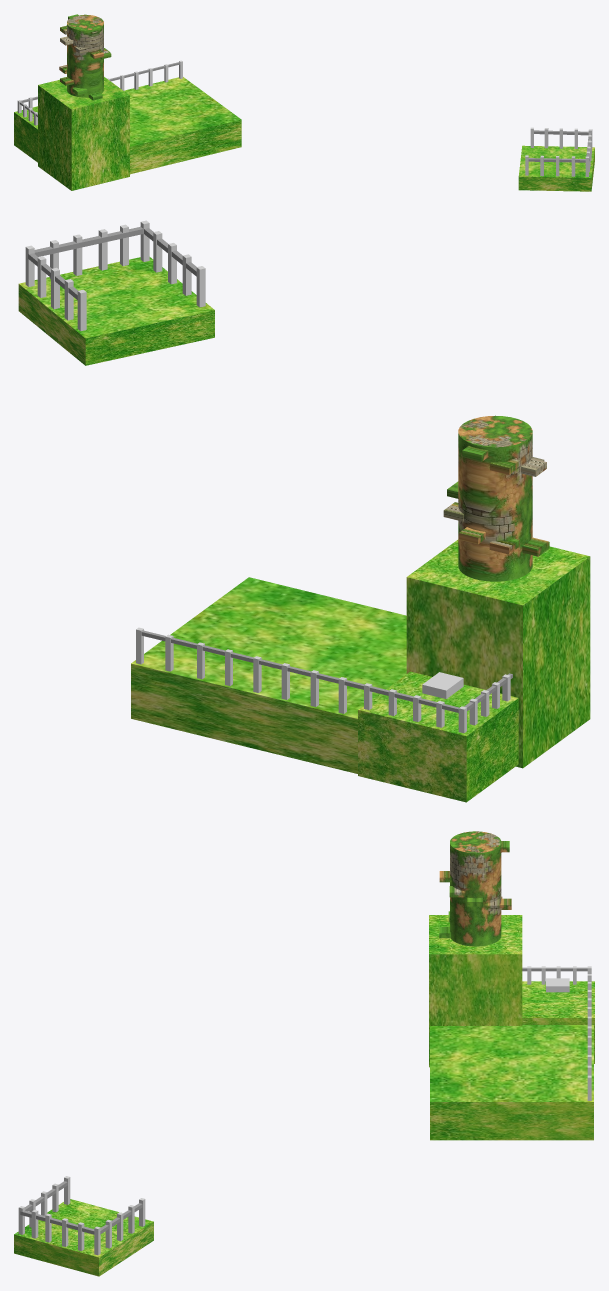
Rendered from Stage_Main.fbx.
3 renders of one model, top to bottom at view 1: azimuth 30°, elevation 25°; view 2: azimuth 150°, elevation 25°; view 3: azimuth 270°, elevation 25°, orthographic. The views are drawn at different scales.
Visible parts, largest first — view 1: pasted__pasted__pasted__pasted__pasted__pasted__pCube9; view 2: pasted__pasted__pasted__pasted__pasted__pasted__pCube9; view 3: pasted__pasted__pasted__pasted__pasted__pasted__pCube9.
Boxes of the visible parts, <box> form: pasted__pasted__pasted__pasted__pasted__pasted__pCube9: <box>14,14,594,191</box>; pasted__pasted__pasted__pasted__pasted__pasted__pCube9: <box>18,220,590,802</box>; pasted__pasted__pasted__pasted__pasted__pasted__pCube9: <box>14,831,594,1276</box>.
Size of the model in its own units: 125 by 44.01 by 112.
Materials: 4 (2 with a texture image).
